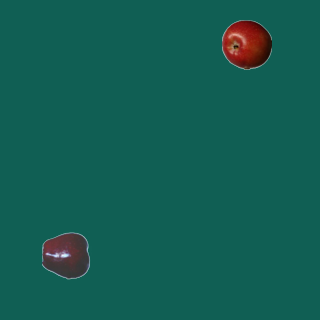Apple Braeburn: (221, 19, 271, 69)
Apple Red Delicious: (41, 230, 91, 280)
